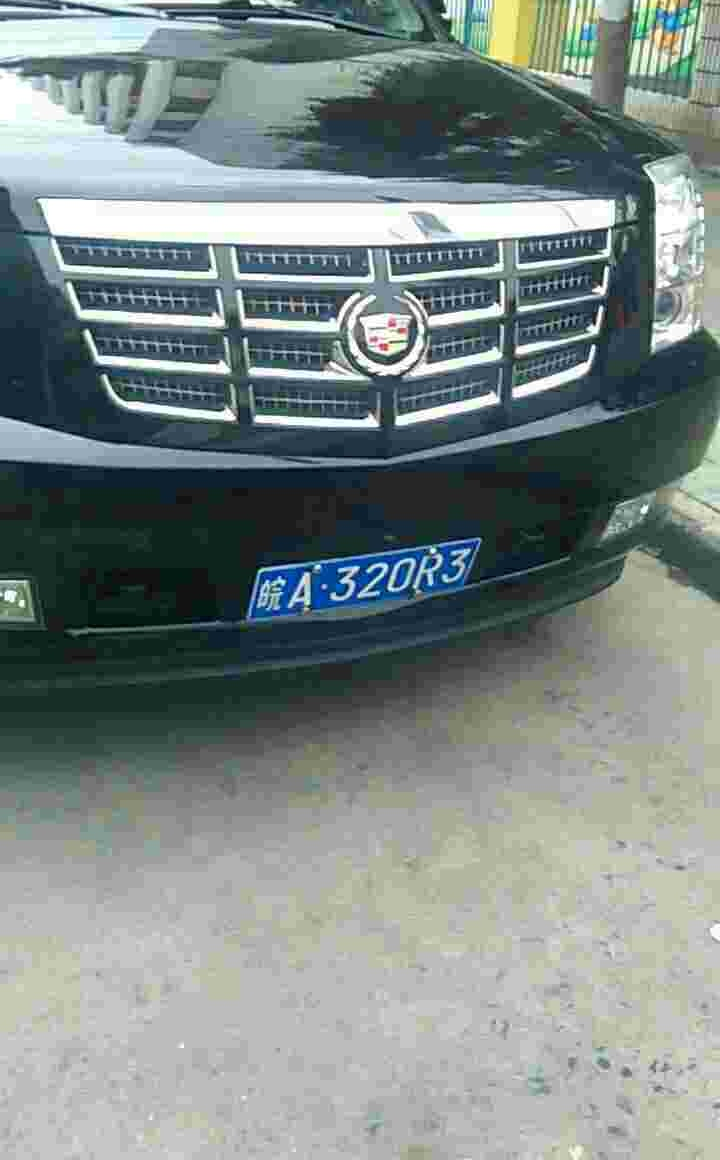license_plate: (246, 544, 475, 624)
